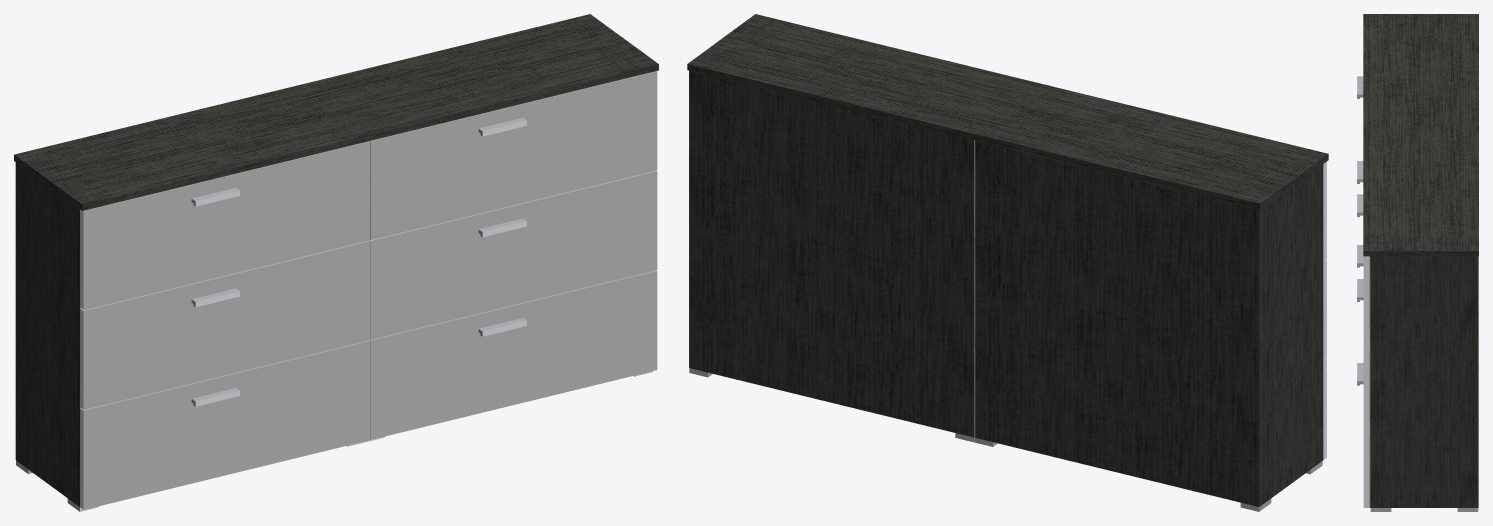
Rendered from appliance_B07GFL6W6N.glb.
3 renders of one model, left to right at view 1: azimuth 30°, elevation 25°; view 2: azimuth 150°, elevation 25°; view 3: azimuth 270°, elevation 25°, orthographic. The views are drawn at different scales.
Visible parts, largest first — view 1: RootNode; view 2: RootNode; view 3: RootNode.
Part boxes in pixels (x1,y1,x2,y2): RootNode: [14, 14, 658, 511]; RootNode: [687, 14, 1328, 511]; RootNode: [1357, 14, 1478, 511].
Bounding box in the file's own units: 1.53 × 0.7905 × 0.3334.
Materials: 1 (1 with a texture image).
